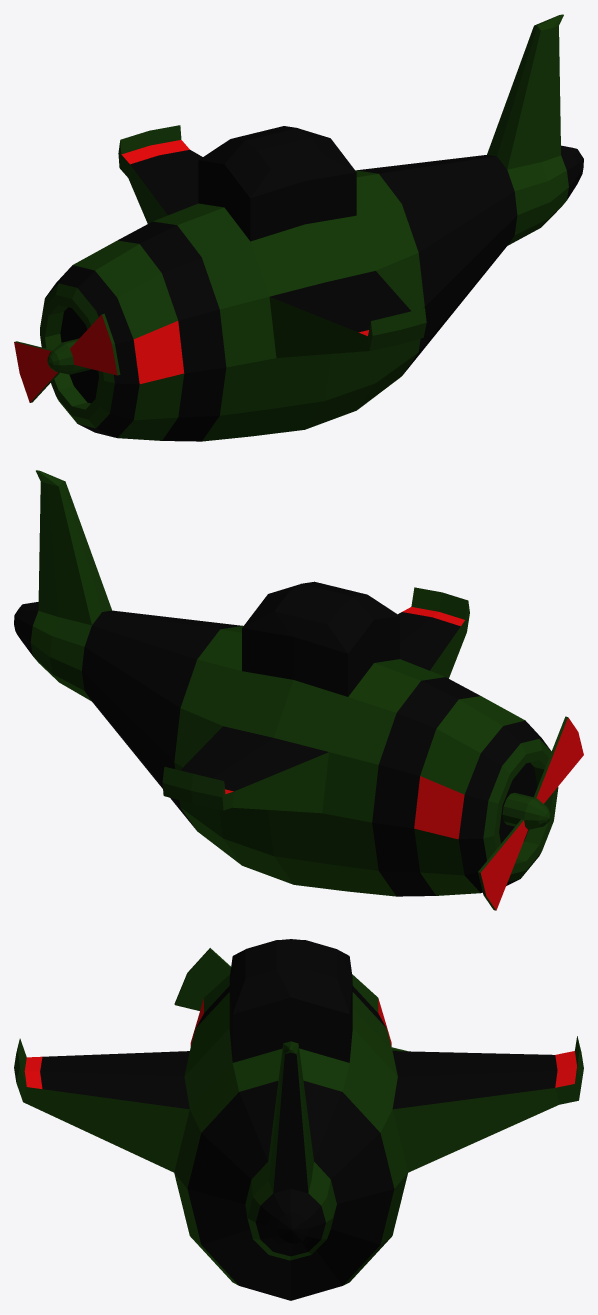
File: ucak355.fbx
The picture shows the model from 3 angles, top to bottom: view 1: azimuth 30°, elevation 25°; view 2: azimuth 150°, elevation 25°; view 3: azimuth 270°, elevation 25°; orthographic projection. The views are drawn at different scales.
Parts seen in each view (by area): view 1: Cylinder; view 2: Cylinder; view 3: Cylinder.
Part boxes in pixels (x1,y1,x2,y2): Cylinder: (14, 14, 583, 441); Cylinder: (14, 470, 583, 910); Cylinder: (14, 939, 583, 1300).
Size of the model in its own units: 6.92 by 4.22 by 5.66.
